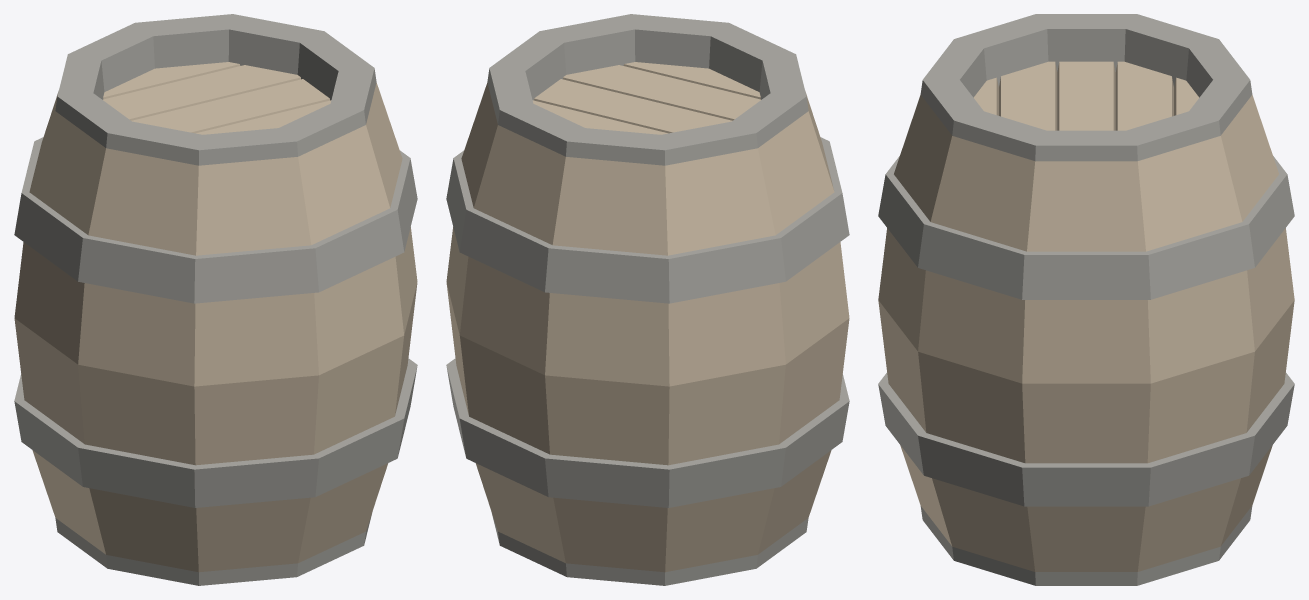
Rendered from Prop_Barrel_2.glb.
3 renders of one model, left to right at view 1: azimuth 30°, elevation 25°; view 2: azimuth 150°, elevation 25°; view 3: azimuth 270°, elevation 25°, orthographic.
Visible parts, largest first — view 1: object1; view 2: object1; view 3: object1.
Part boxes in pixels (x1,y1,x2,y2): object1: (14, 14, 417, 585); object1: (446, 14, 849, 585); object1: (878, 14, 1294, 585).
Size of the model in its own units: 0.4818 by 0.5906 by 0.5066.
